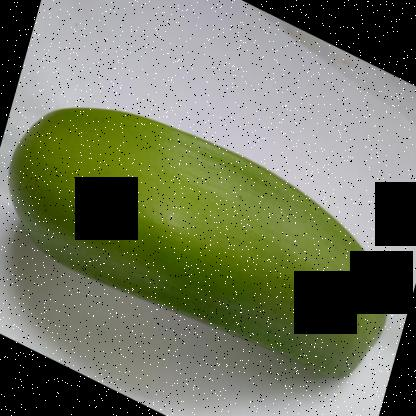freshunripe: (1, 79, 399, 395)
